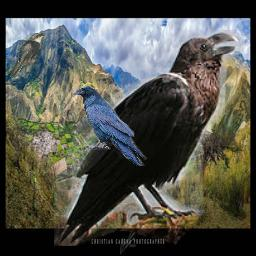Crow: (54, 30, 245, 246), (72, 85, 147, 166)
Cuckoo: (7, 33, 46, 78)
